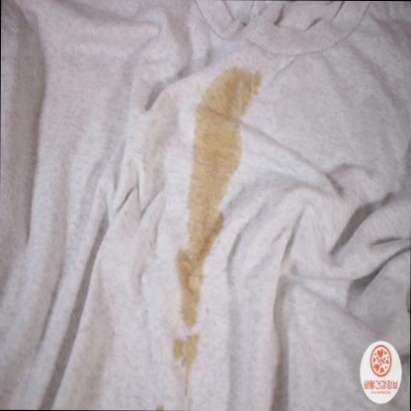coffee: (194, 132, 234, 186), (208, 74, 246, 128), (179, 249, 199, 325), (190, 190, 220, 239)
